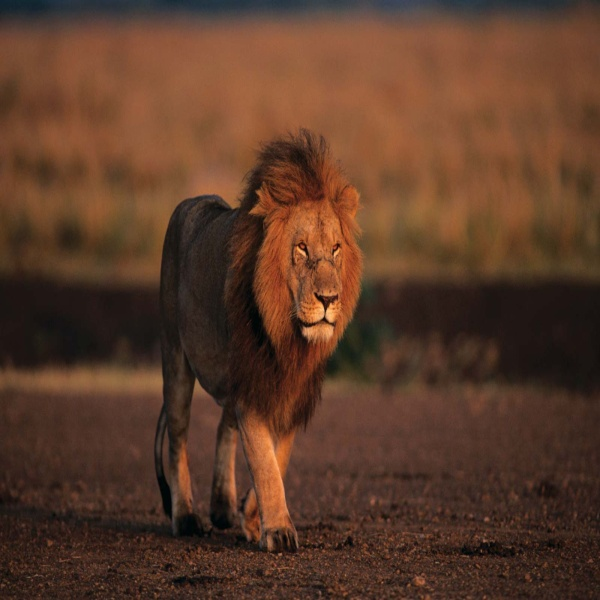Lion: (152, 126, 369, 555)
